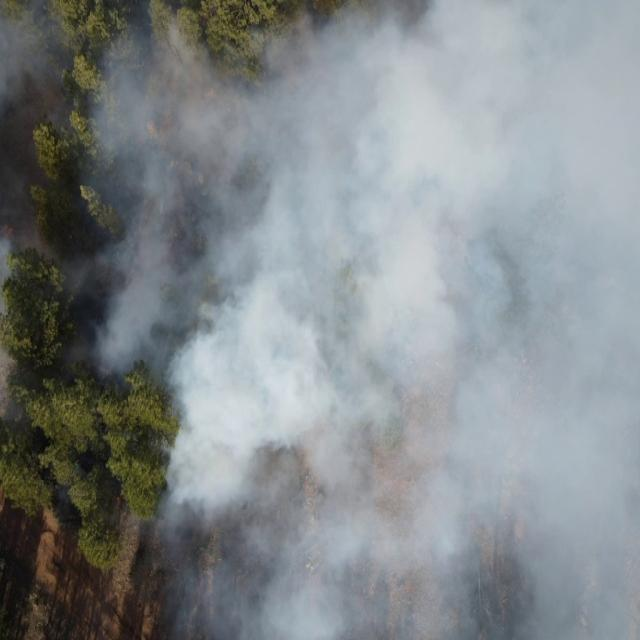smoke: (92, 0, 640, 372), (170, 366, 640, 640), (0, 0, 73, 132)
